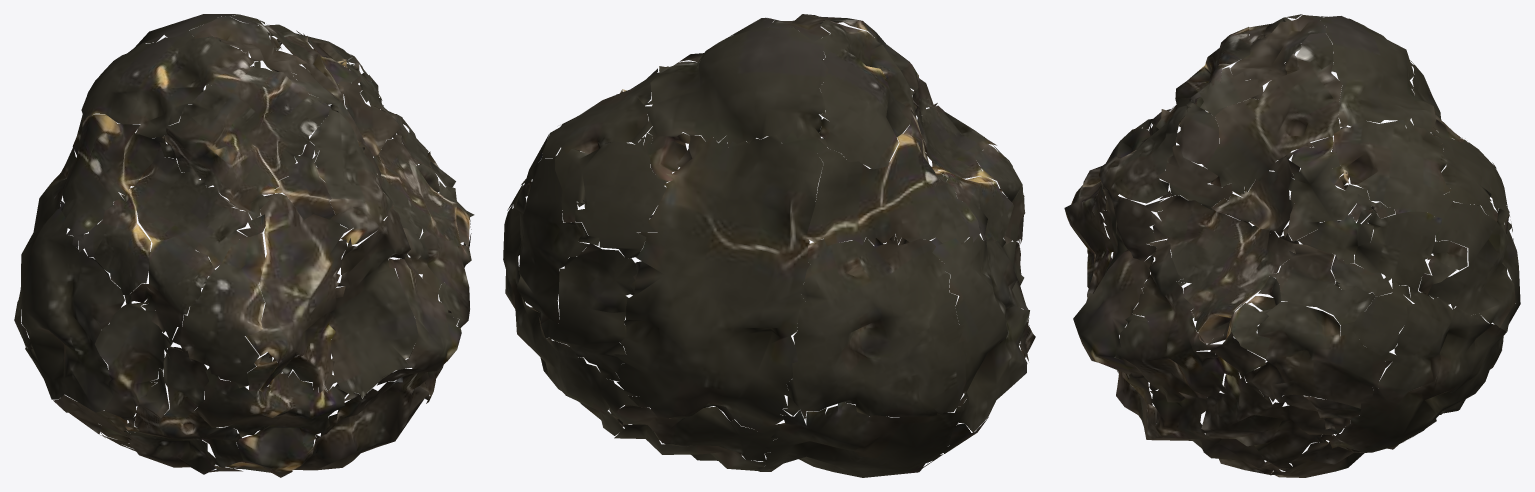
The model's file is asteroid_rock.glb.
The picture shows the model from 3 angles, left to right: view 1: azimuth 30°, elevation 25°; view 2: azimuth 150°, elevation 25°; view 3: azimuth 270°, elevation 25°; orthographic projection. The views are drawn at different scales.
Parts seen in each view (by area): view 1: tripo_node_10ed13f9-485b-4df1-96d4-c59676d28d16; view 2: tripo_node_10ed13f9-485b-4df1-96d4-c59676d28d16; view 3: tripo_node_10ed13f9-485b-4df1-96d4-c59676d28d16.
Boxes of the visible parts, x1,y1,x2,y2 form: tripo_node_10ed13f9-485b-4df1-96d4-c59676d28d16: (14,14,474,477); tripo_node_10ed13f9-485b-4df1-96d4-c59676d28d16: (503,14,1035,477); tripo_node_10ed13f9-485b-4df1-96d4-c59676d28d16: (1064,14,1520,477).
Size of the model in its own units: 40 by 37.82 by 38.02.
Materials: 1 (1 with a texture image).
